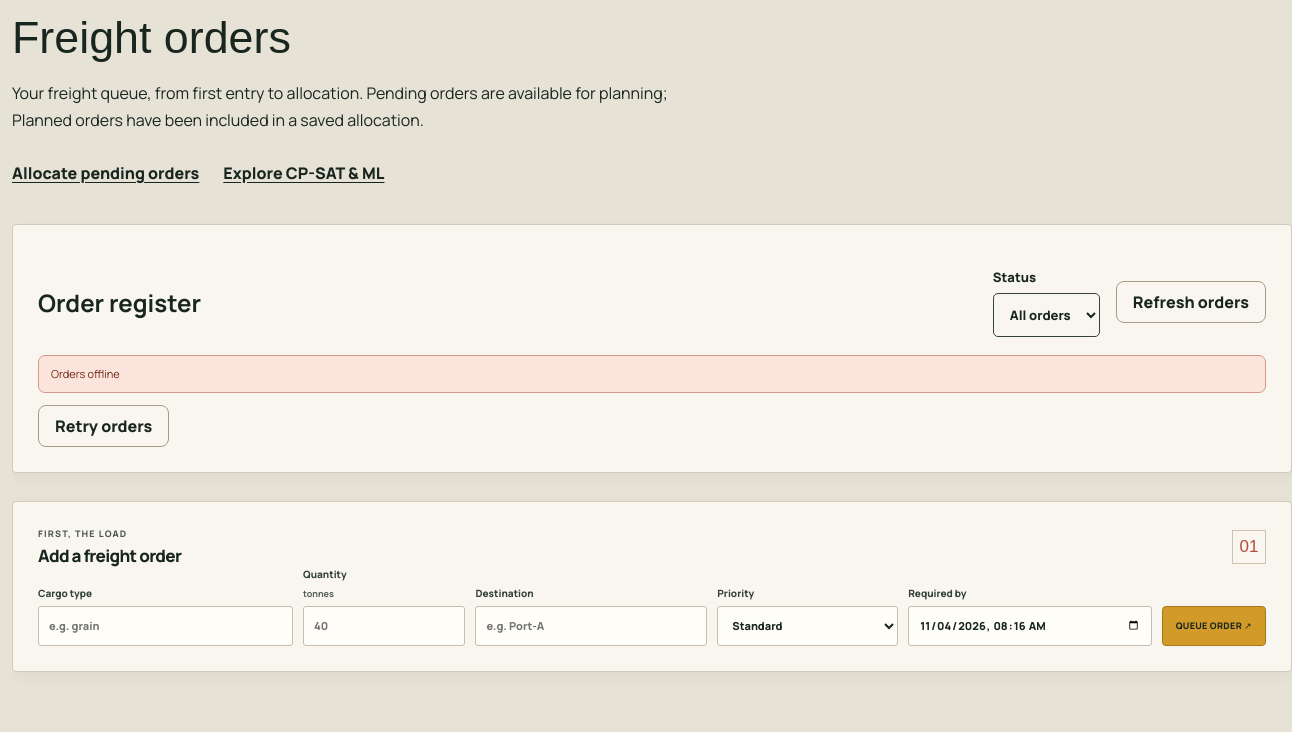
Test: retries a failed order list
Expected: the message shows "Orders offline", [51,366,120,381]
Click the button "Retry orders" at (104, 426), box [38,405,169,447]
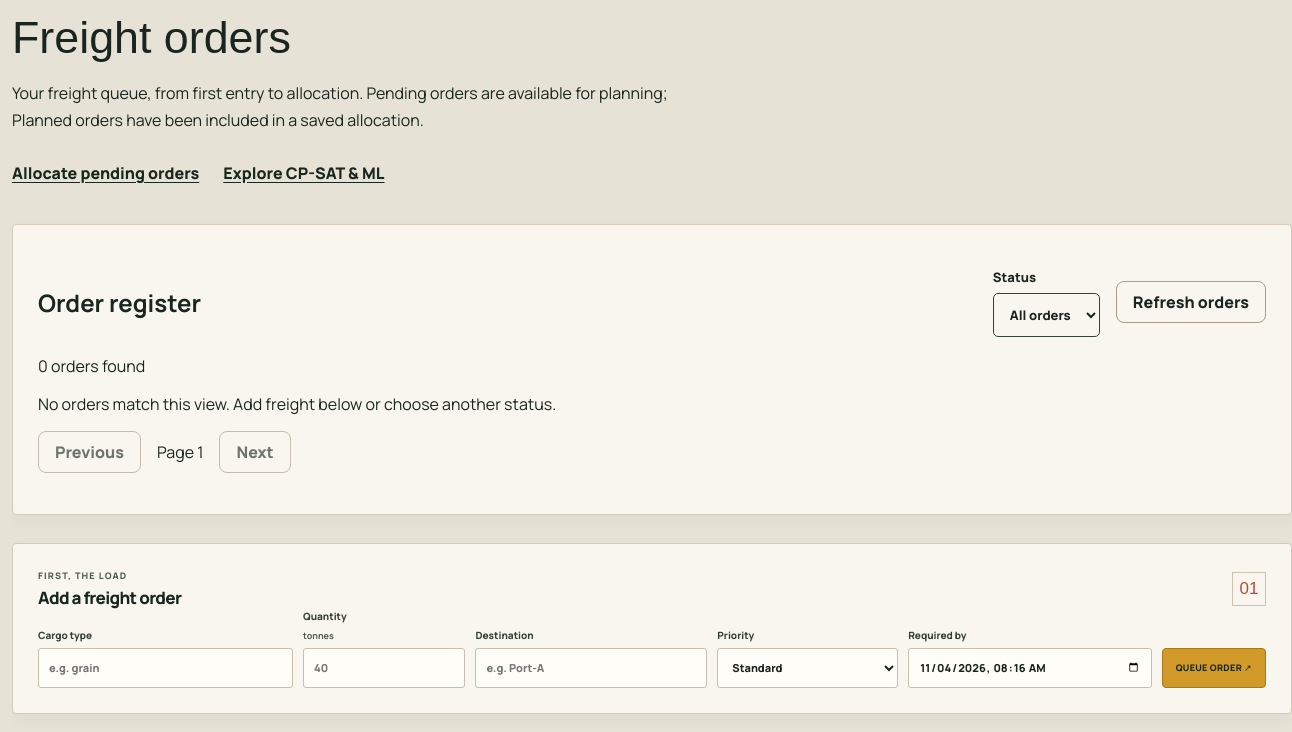
Now the text "No orders match" is shown, box [38,393,556,415]
